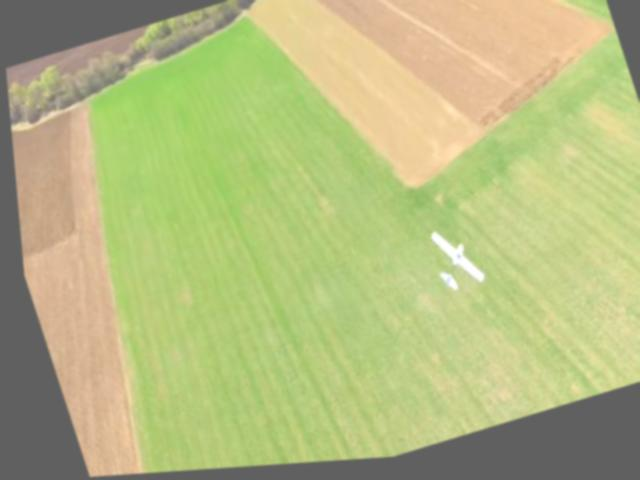uav: (412, 219, 486, 308)
